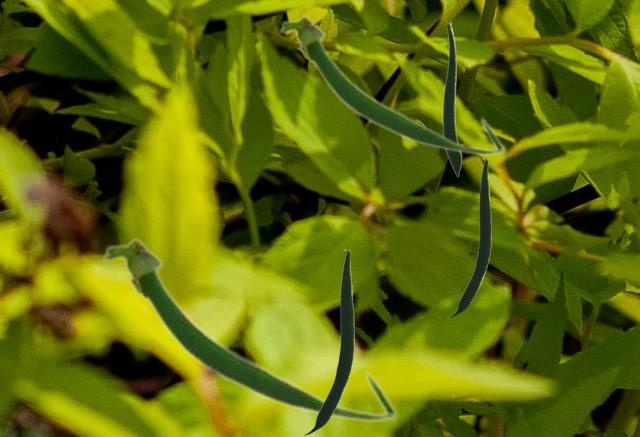french_bean: (100, 235, 398, 423), (277, 13, 505, 156), (303, 249, 353, 434), (447, 158, 490, 317), (442, 21, 461, 176)
